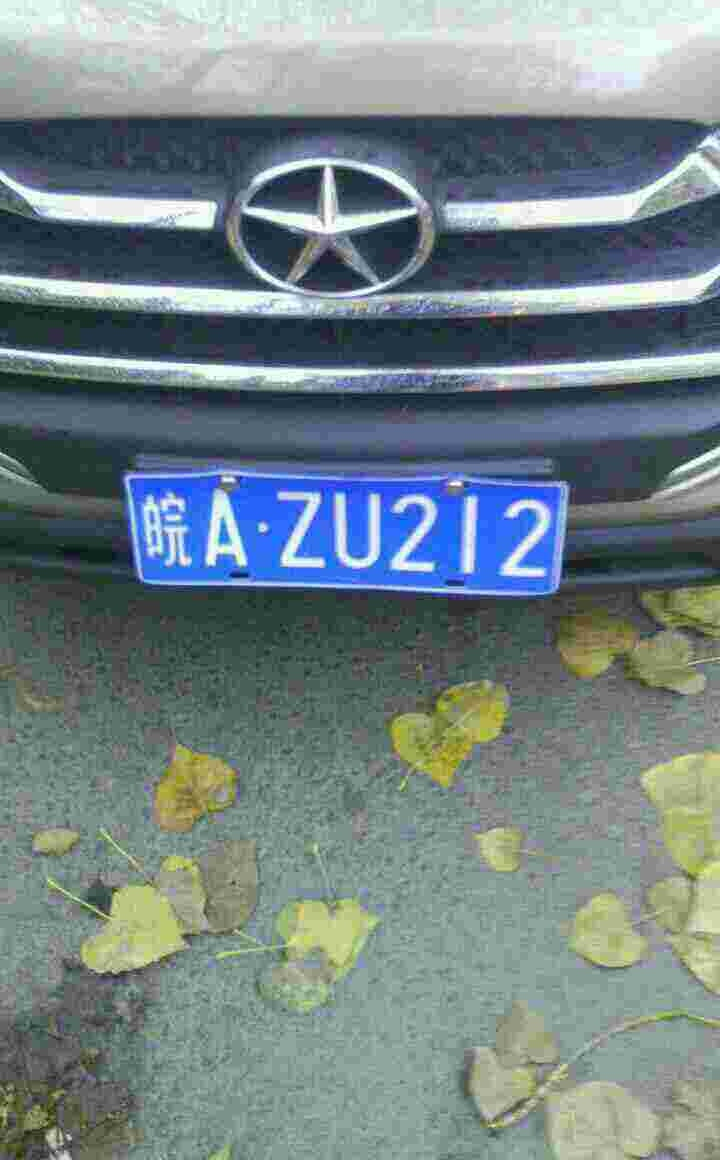license_plate: (114, 457, 588, 589)
